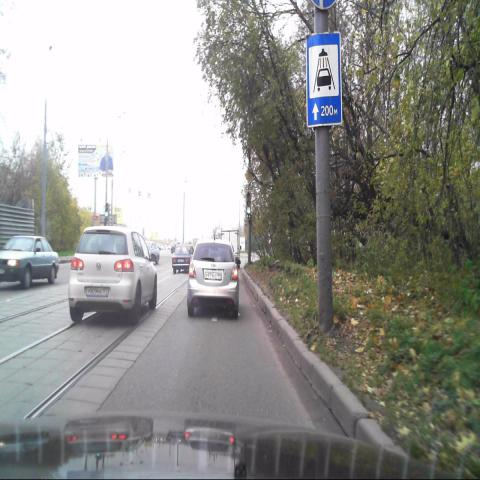7_5: (307, 33, 342, 127)
